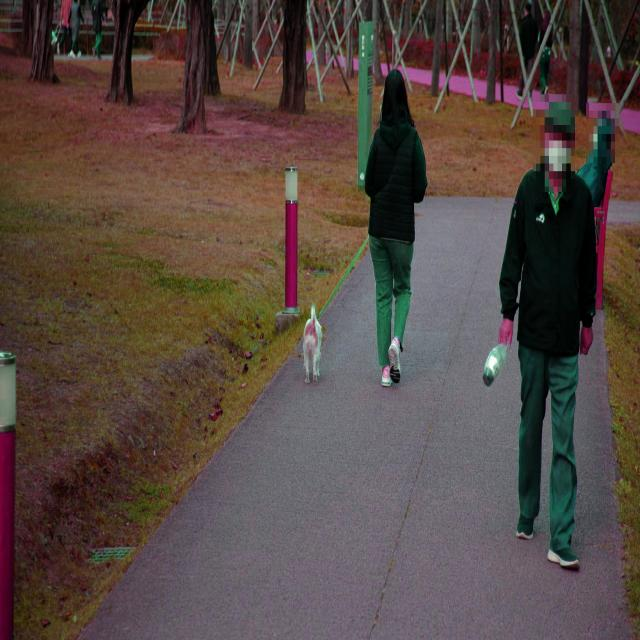Leashed_Dog: (304, 232, 401, 388)
